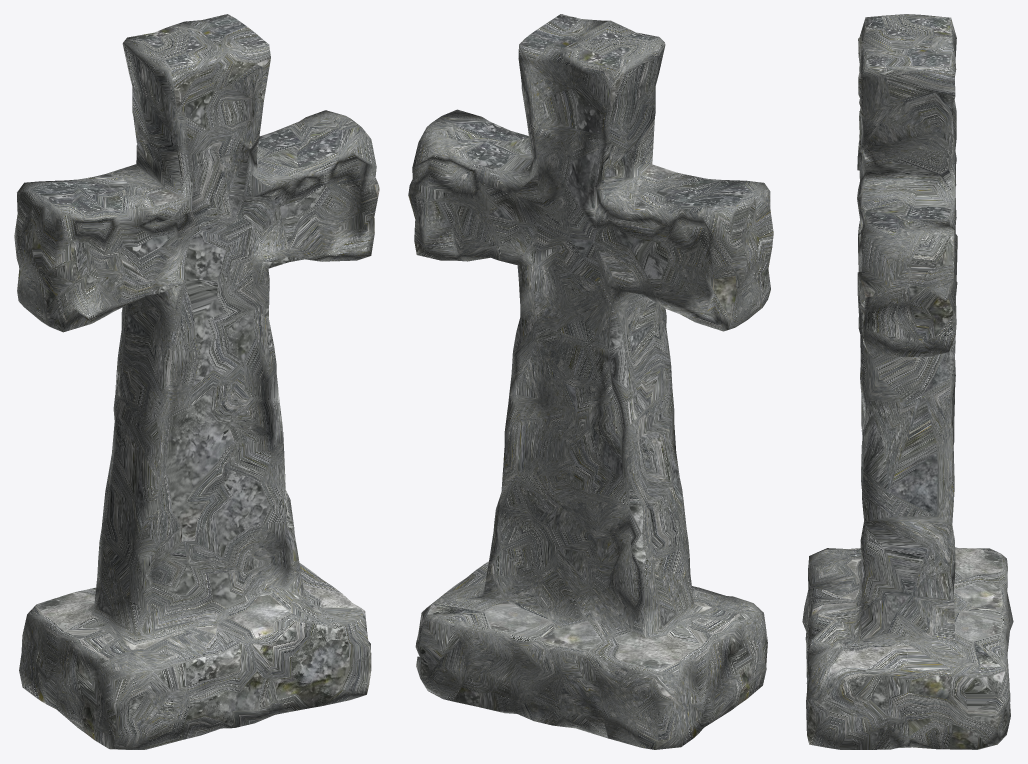
Rendered from gravestone-b.glb.
3 renders of one model, left to right at view 1: azimuth 30°, elevation 25°; view 2: azimuth 150°, elevation 25°; view 3: azimuth 270°, elevation 25°, orthographic.
Bounding box in the file's own units: 1.02 × 1.9 × 0.5565.
Materials: 1 (1 with a texture image).
